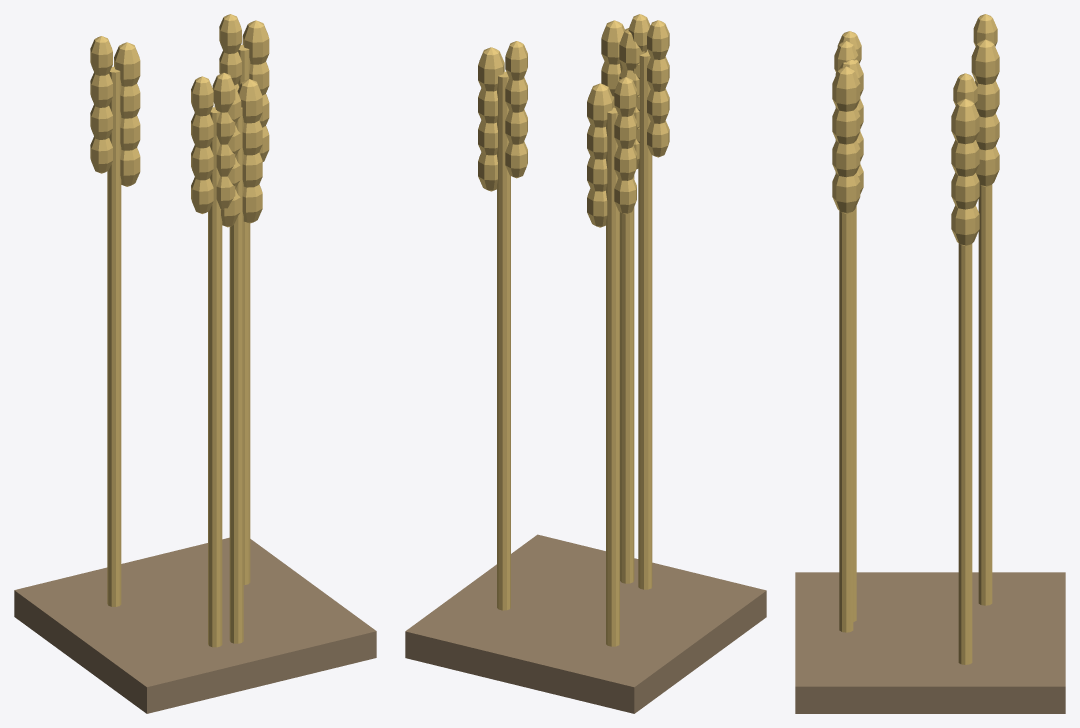
The model's file is wheat-mature.glb.
The picture shows the model from 3 angles, left to right: view 1: azimuth 30°, elevation 25°; view 2: azimuth 150°, elevation 25°; view 3: azimuth 270°, elevation 25°; orthographic projection. The views are drawn at different scales.
Parts seen in each view (by area): view 1: wheat-mature; view 2: wheat-mature; view 3: wheat-mature.
Boxes of the visible parts, x1,y1,x2,y2 form: wheat-mature: [14, 14, 376, 713]; wheat-mature: [405, 14, 766, 713]; wheat-mature: [795, 14, 1065, 713].
Size of the model in its own units: 0.45 by 1.12 by 0.45.
